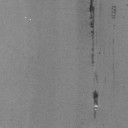slag inclusion: (88, 0, 96, 52), (92, 88, 99, 106), (110, 4, 118, 19), (92, 110, 98, 119), (94, 71, 98, 82), (91, 53, 94, 64)
